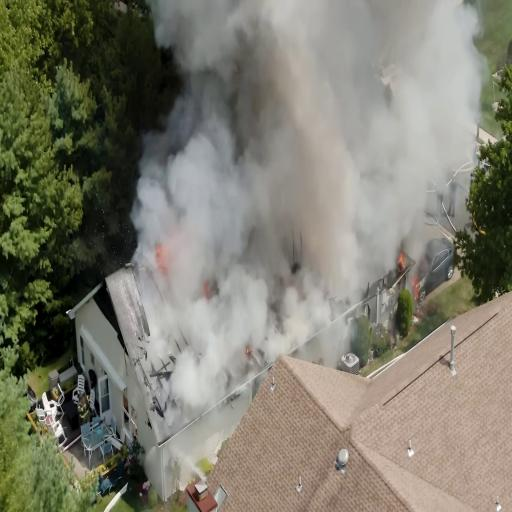smoke: (333, 0, 451, 262), (171, 0, 352, 163), (140, 139, 243, 348), (235, 137, 340, 314)
